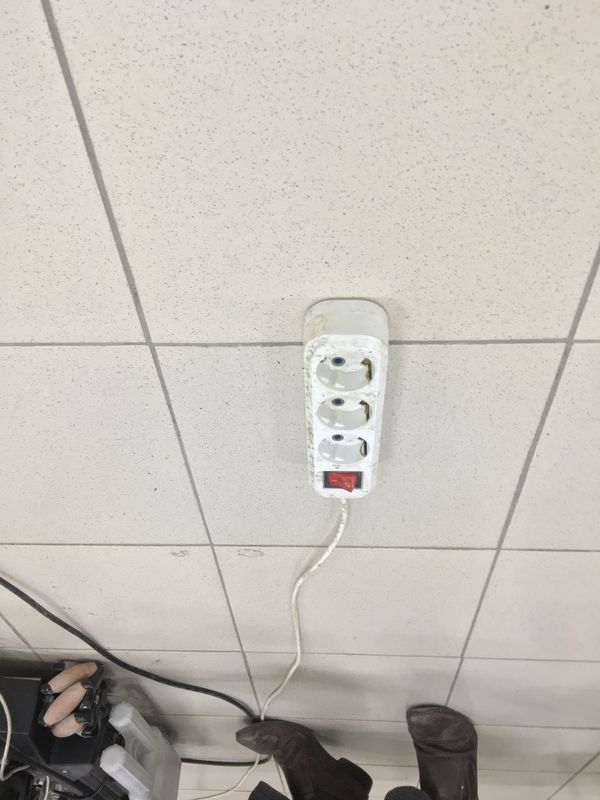socket: (295, 289, 389, 504)
